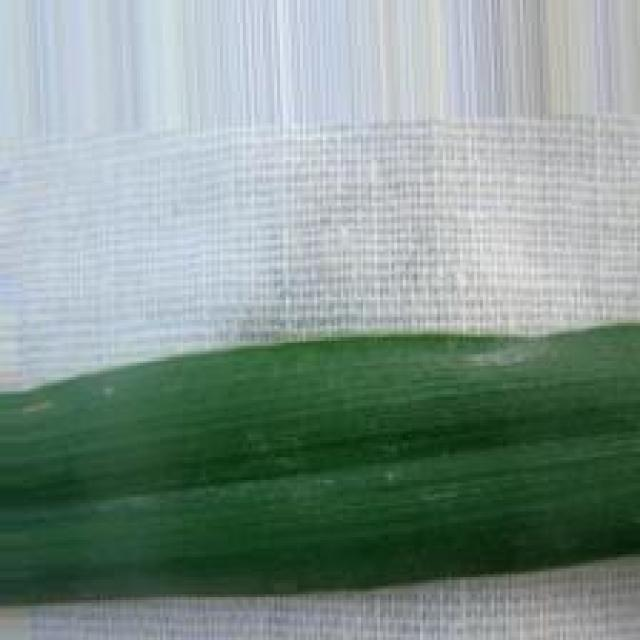Healthy: (2, 323, 640, 609)
